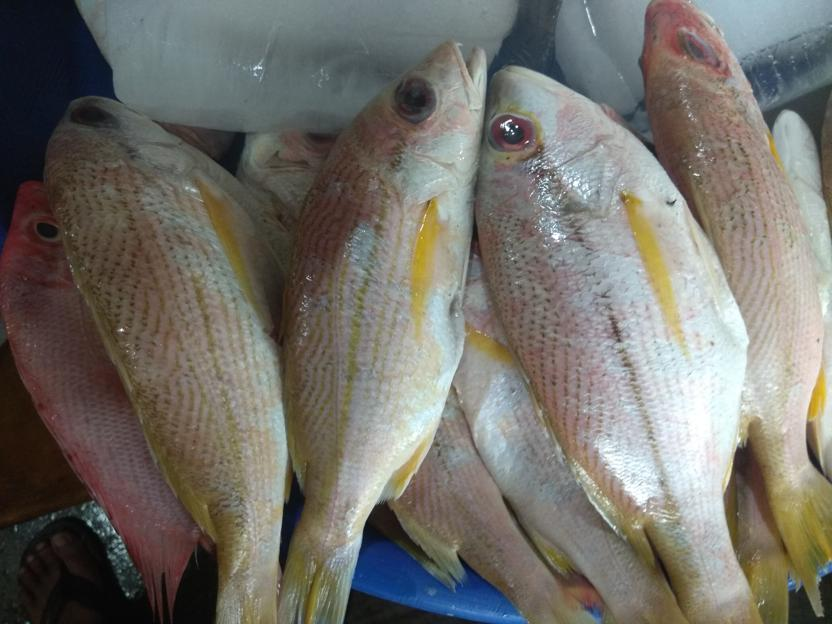Fish head: (347, 39, 490, 204), (476, 63, 630, 216), (45, 94, 197, 174), (644, 1, 750, 106), (236, 131, 341, 216), (277, 524, 362, 624), (3, 180, 78, 290), (212, 553, 280, 623)
Fish tail: (767, 470, 830, 619)
